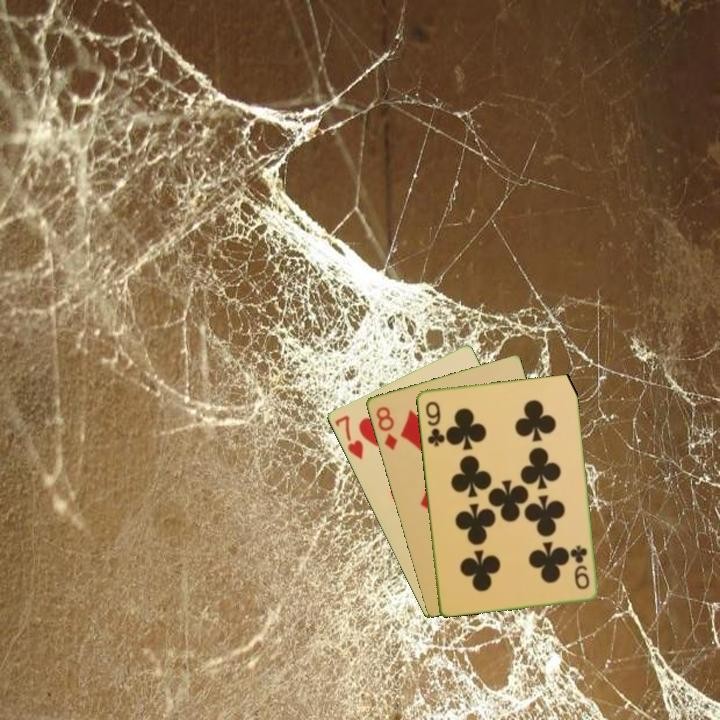7h: (331, 411, 366, 463)
8d: (372, 403, 400, 453)
9c: (567, 541, 592, 592), (422, 397, 446, 449)
